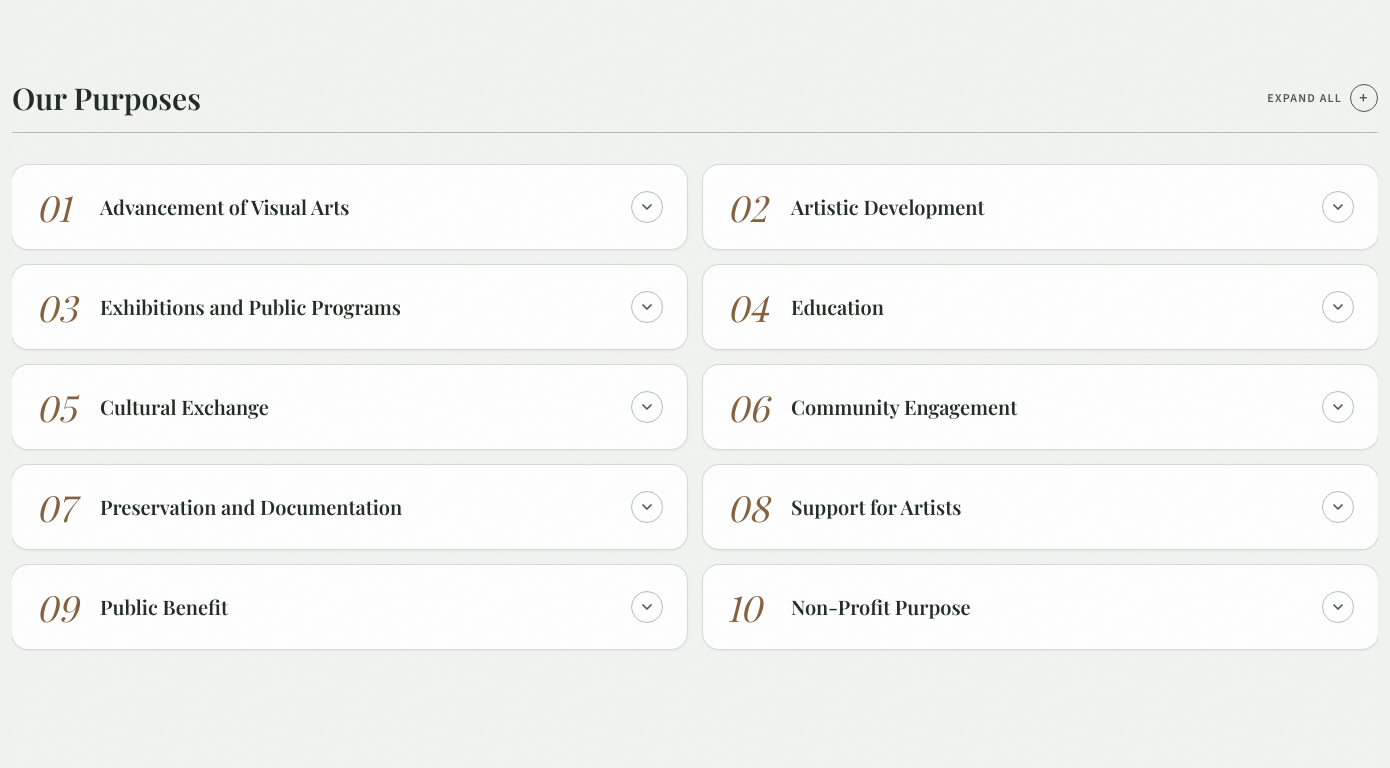
PurposesSection › closes a purpose when it is chosen again
The image size is (1390, 768).
Click the button "01 Advancement of Visual Arts": (350, 207) [12,165,687,249]
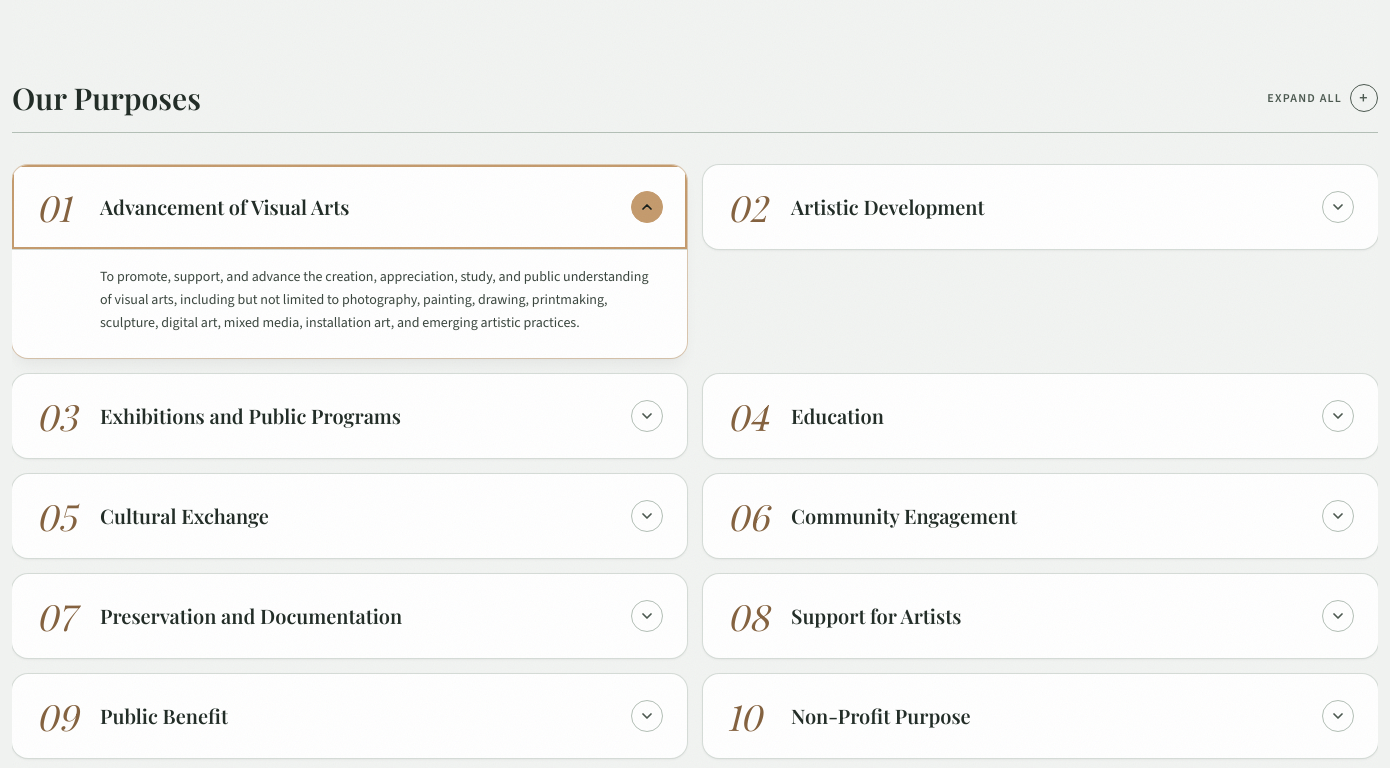
Click the button "01 Advancement of Visual Arts": (350, 207) [12,165,687,249]
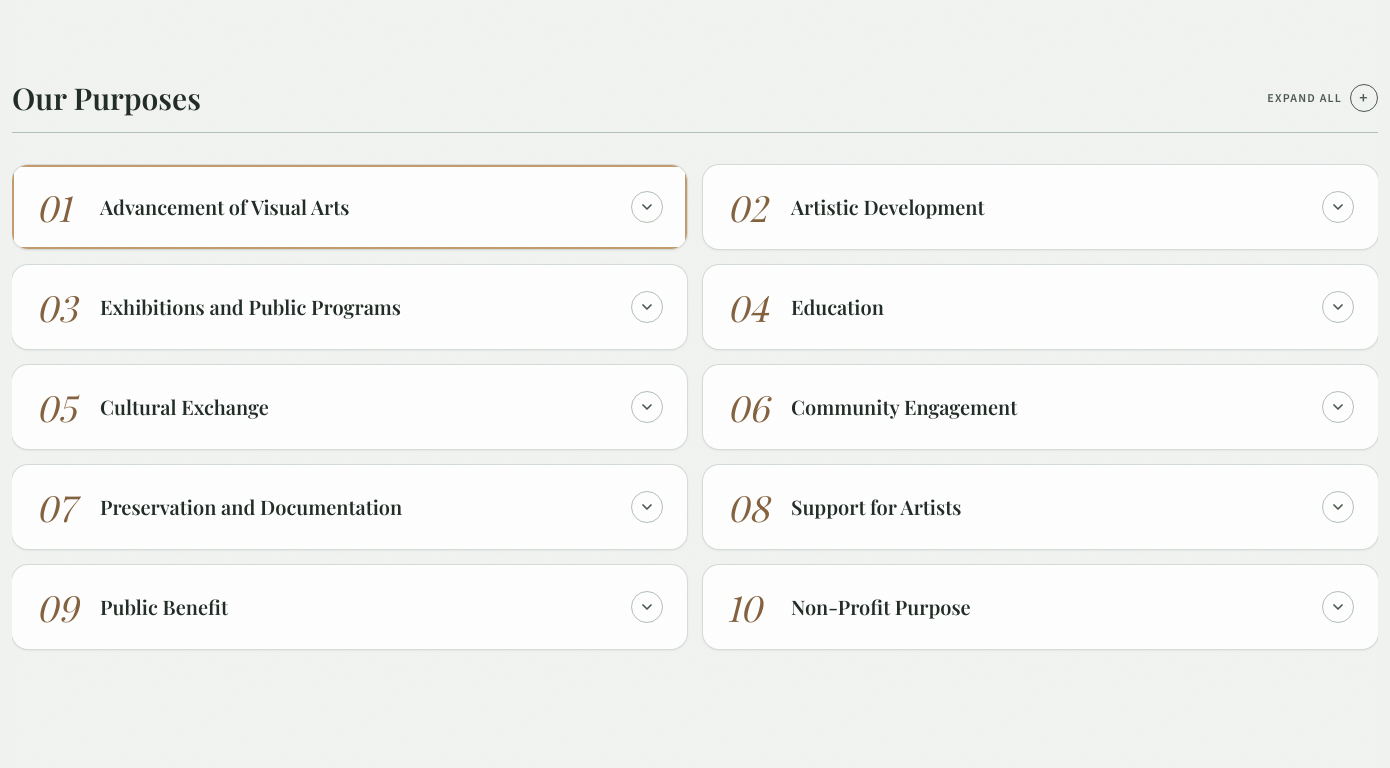
Check: the button "01 Advancement of Visual Arts" is collapsed, box [12,165,687,249]
